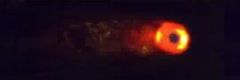keyhole: (166, 29, 182, 46)
